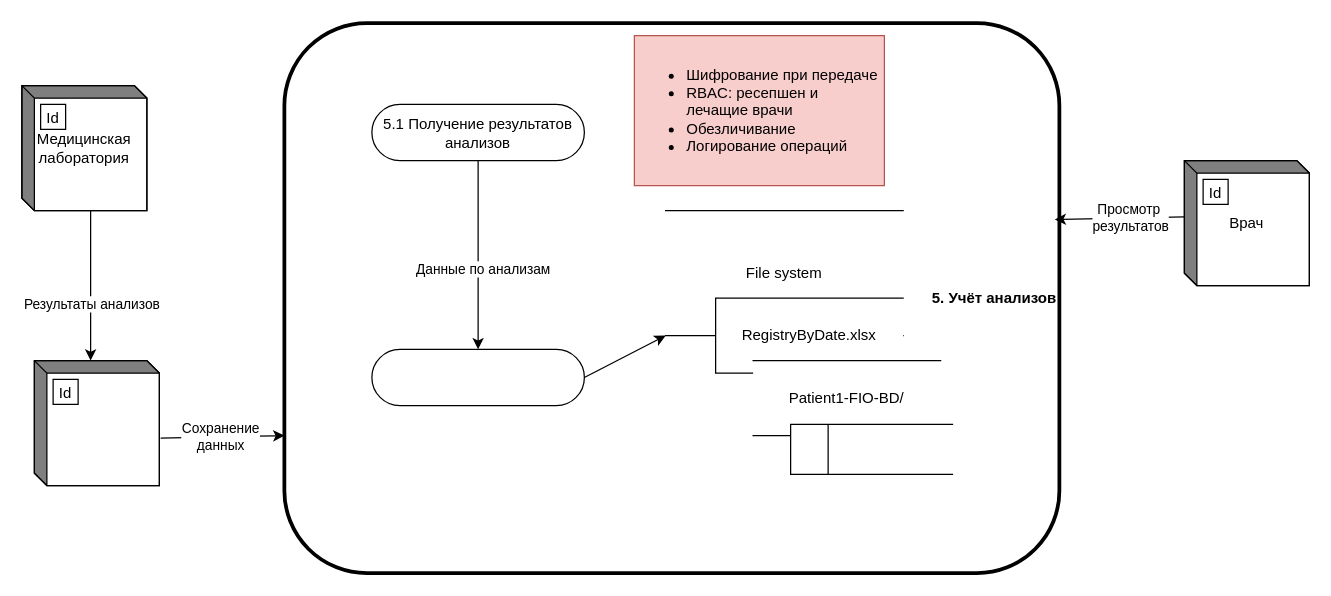
Image size: 1331x596. Some labels were removed from this diagram. The shapes that lost their labels are listed below. From the top down, each one's centre as x and y in pixels, then its label:
At pixel 477 377: "5.2 Сохранение результатов".
At pixel 96 422: "Сотрудник ресепшена".
At pixel 871 448: "Data file 1".
